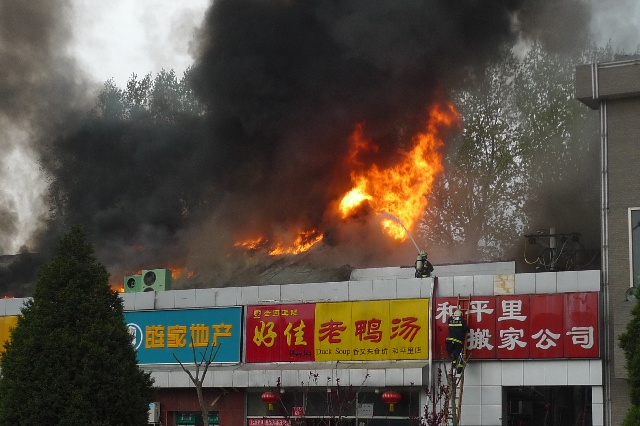fire: (224, 111, 470, 245)
